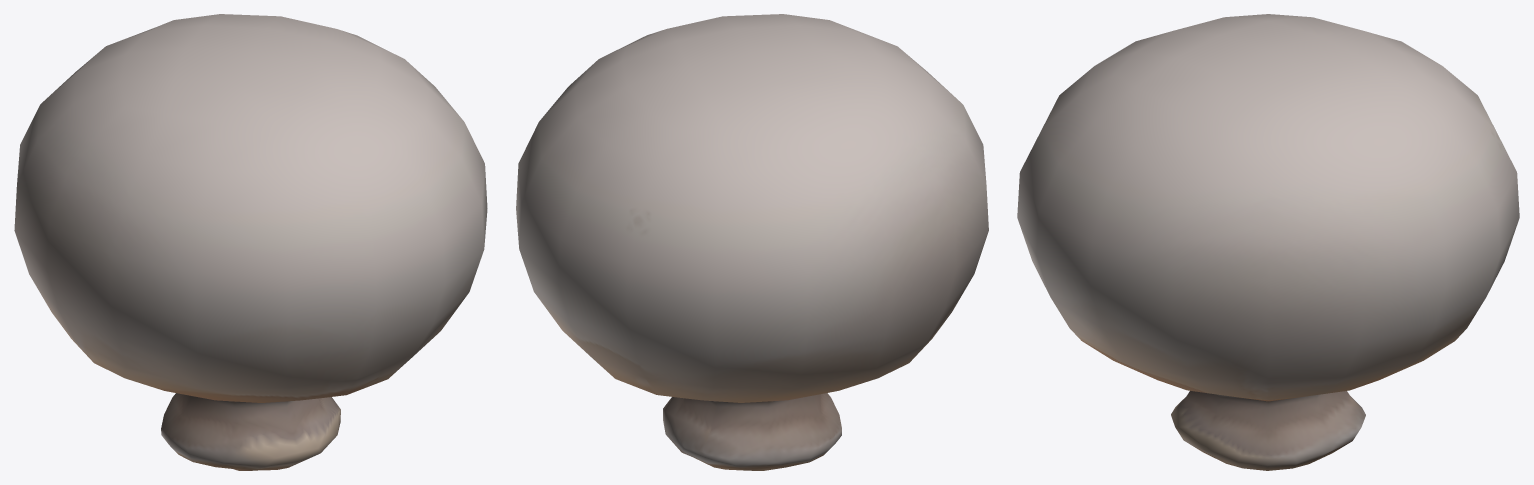
The model's file is PuffBall_004.fbx.
3 renders of one model, left to right at view 1: azimuth 30°, elevation 25°; view 2: azimuth 150°, elevation 25°; view 3: azimuth 270°, elevation 25°, orthographic.
Parts seen in each view (by area): view 1: BuffBall_04_LOD0; view 2: BuffBall_04_LOD0; view 3: BuffBall_04_LOD0.
Part boxes in pixels (<box>): BuffBall_04_LOD0: <box>14,14,487,470</box>; BuffBall_04_LOD0: <box>516,14,988,470</box>; BuffBall_04_LOD0: <box>1017,14,1519,470</box>.
Size of what is drawn, in the model's own units: 10.26 by 9.53 by 10.93.
